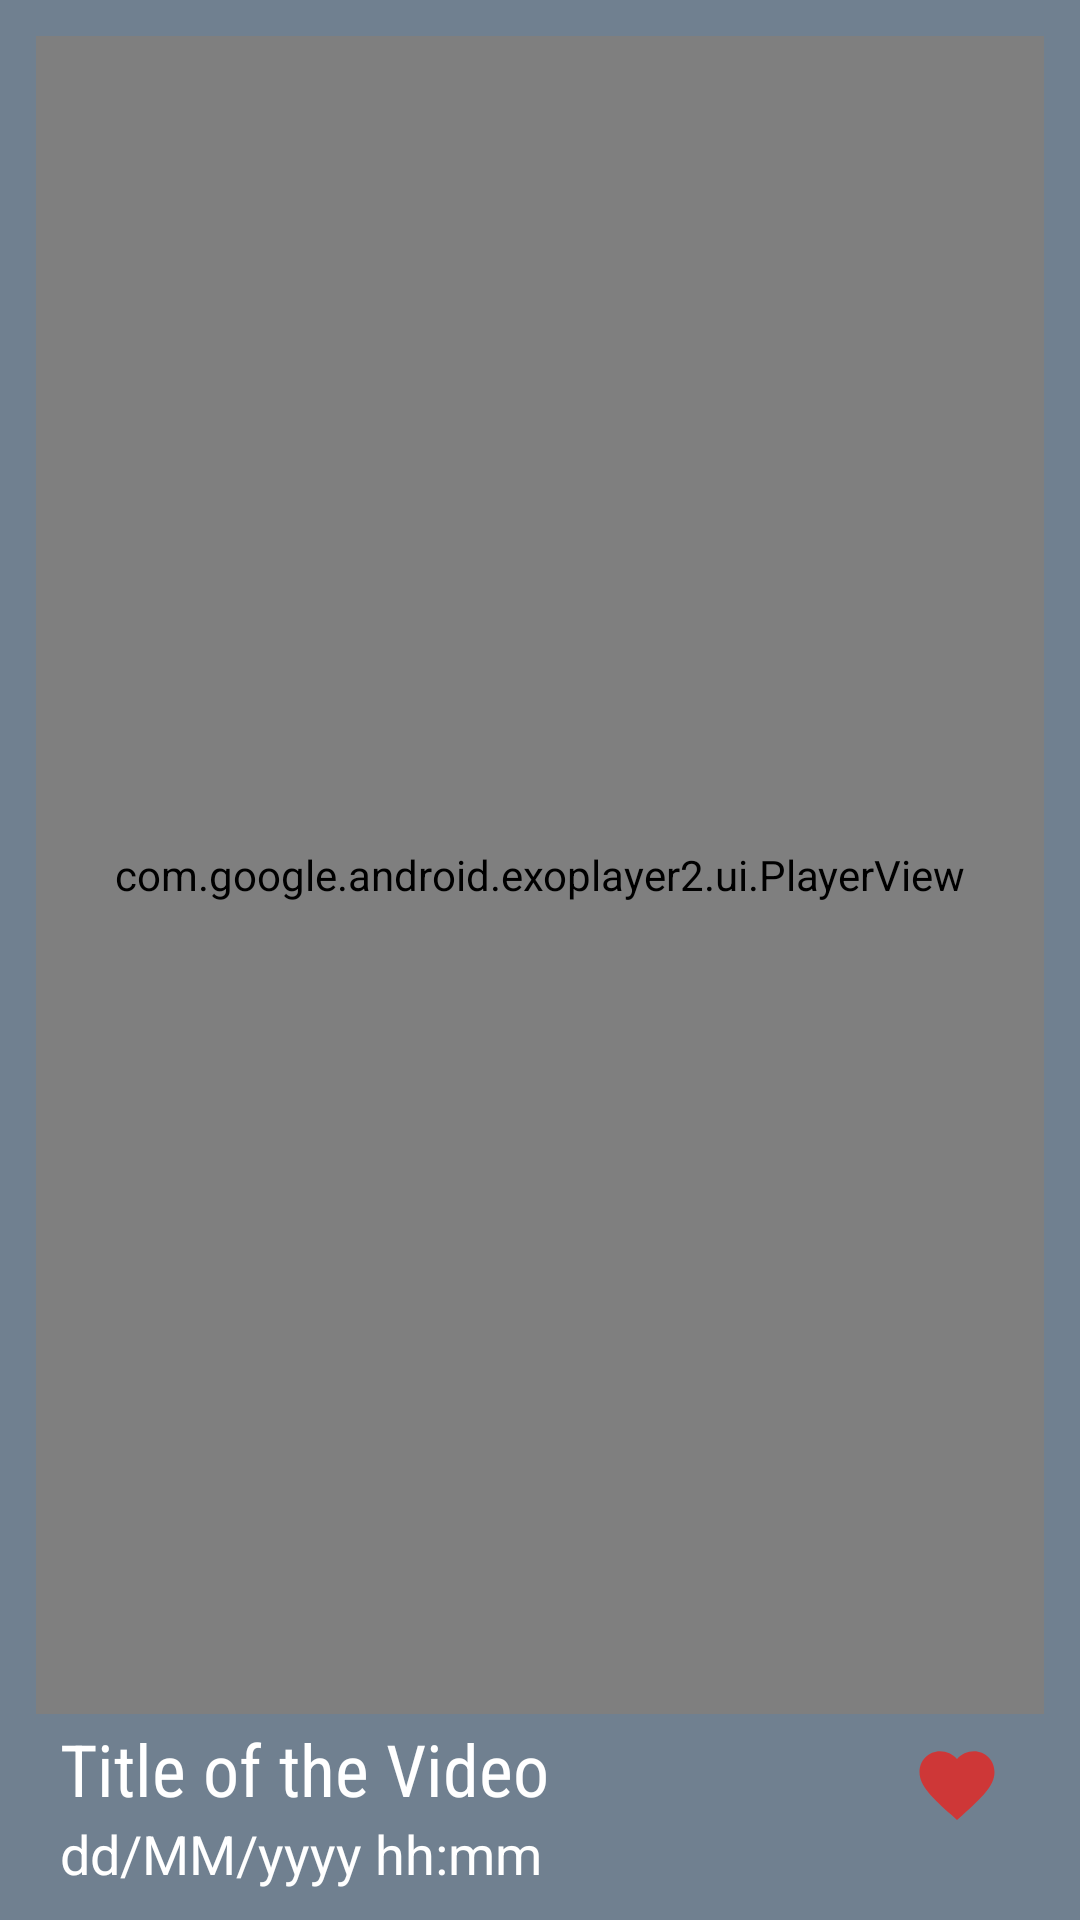

Screen size 1080 x 1920. Icon name, then its center in pixels as (x=x, y=y):
fav: (x=957, y=1785)
